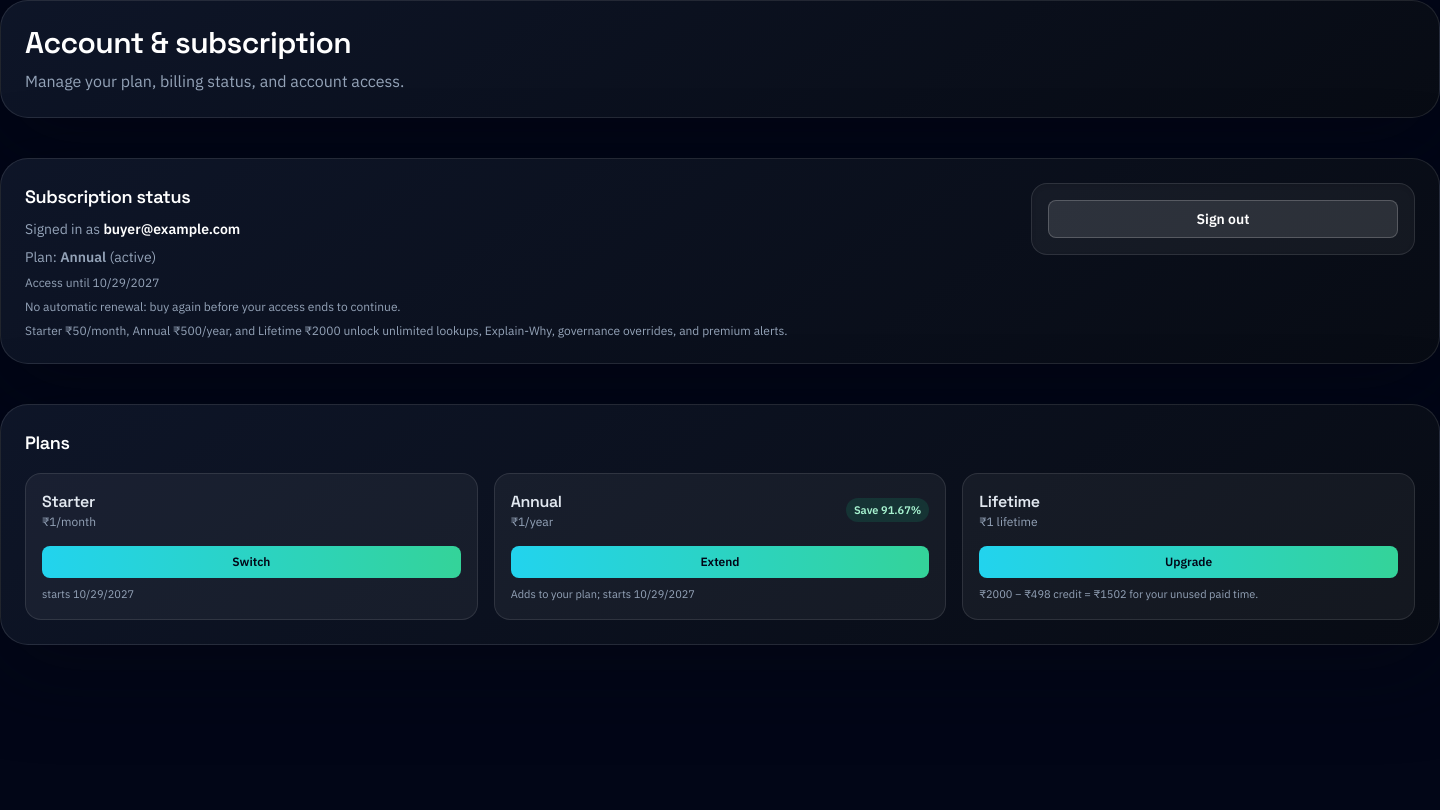
Lifetime upgrade credit on the account page › tells the buyer the server's reason when a payment is kept for a refund
Click the button "Upgrade" at point(1189, 562), box [979,546,1398,578]
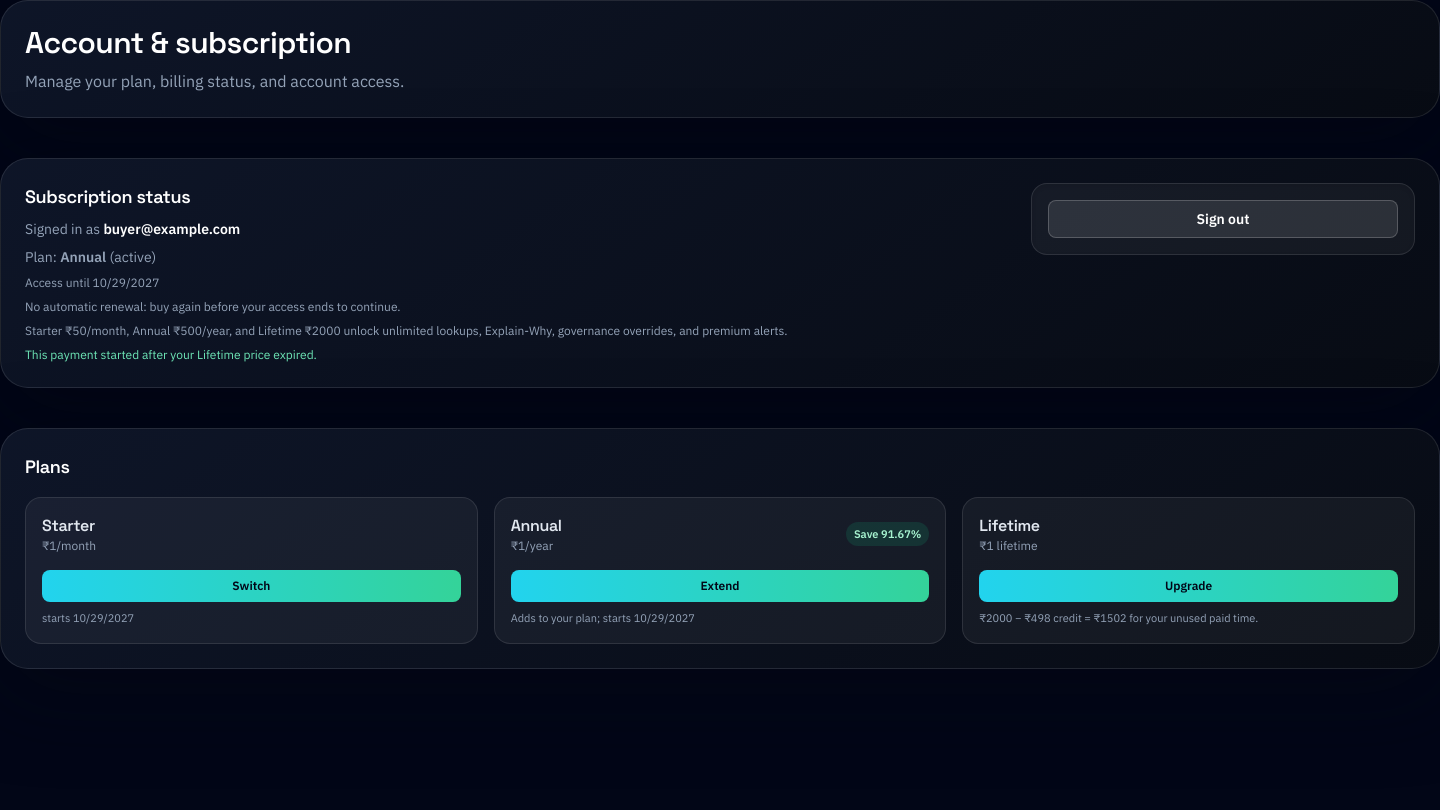
Now the text "This payment started after your Lifetime price expired." is shown, box [25,347,317,362]
